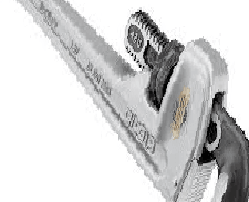Wrench: (26, 1, 249, 202)
